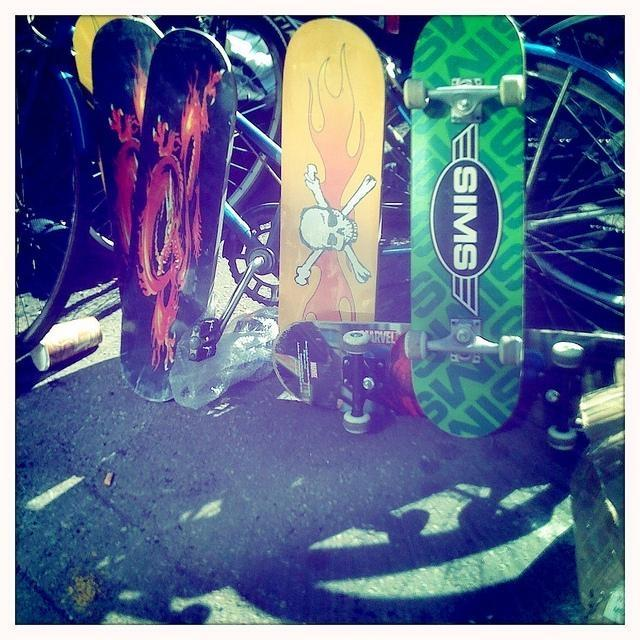bicycle: (18, 16, 628, 358), (150, 15, 626, 146)
